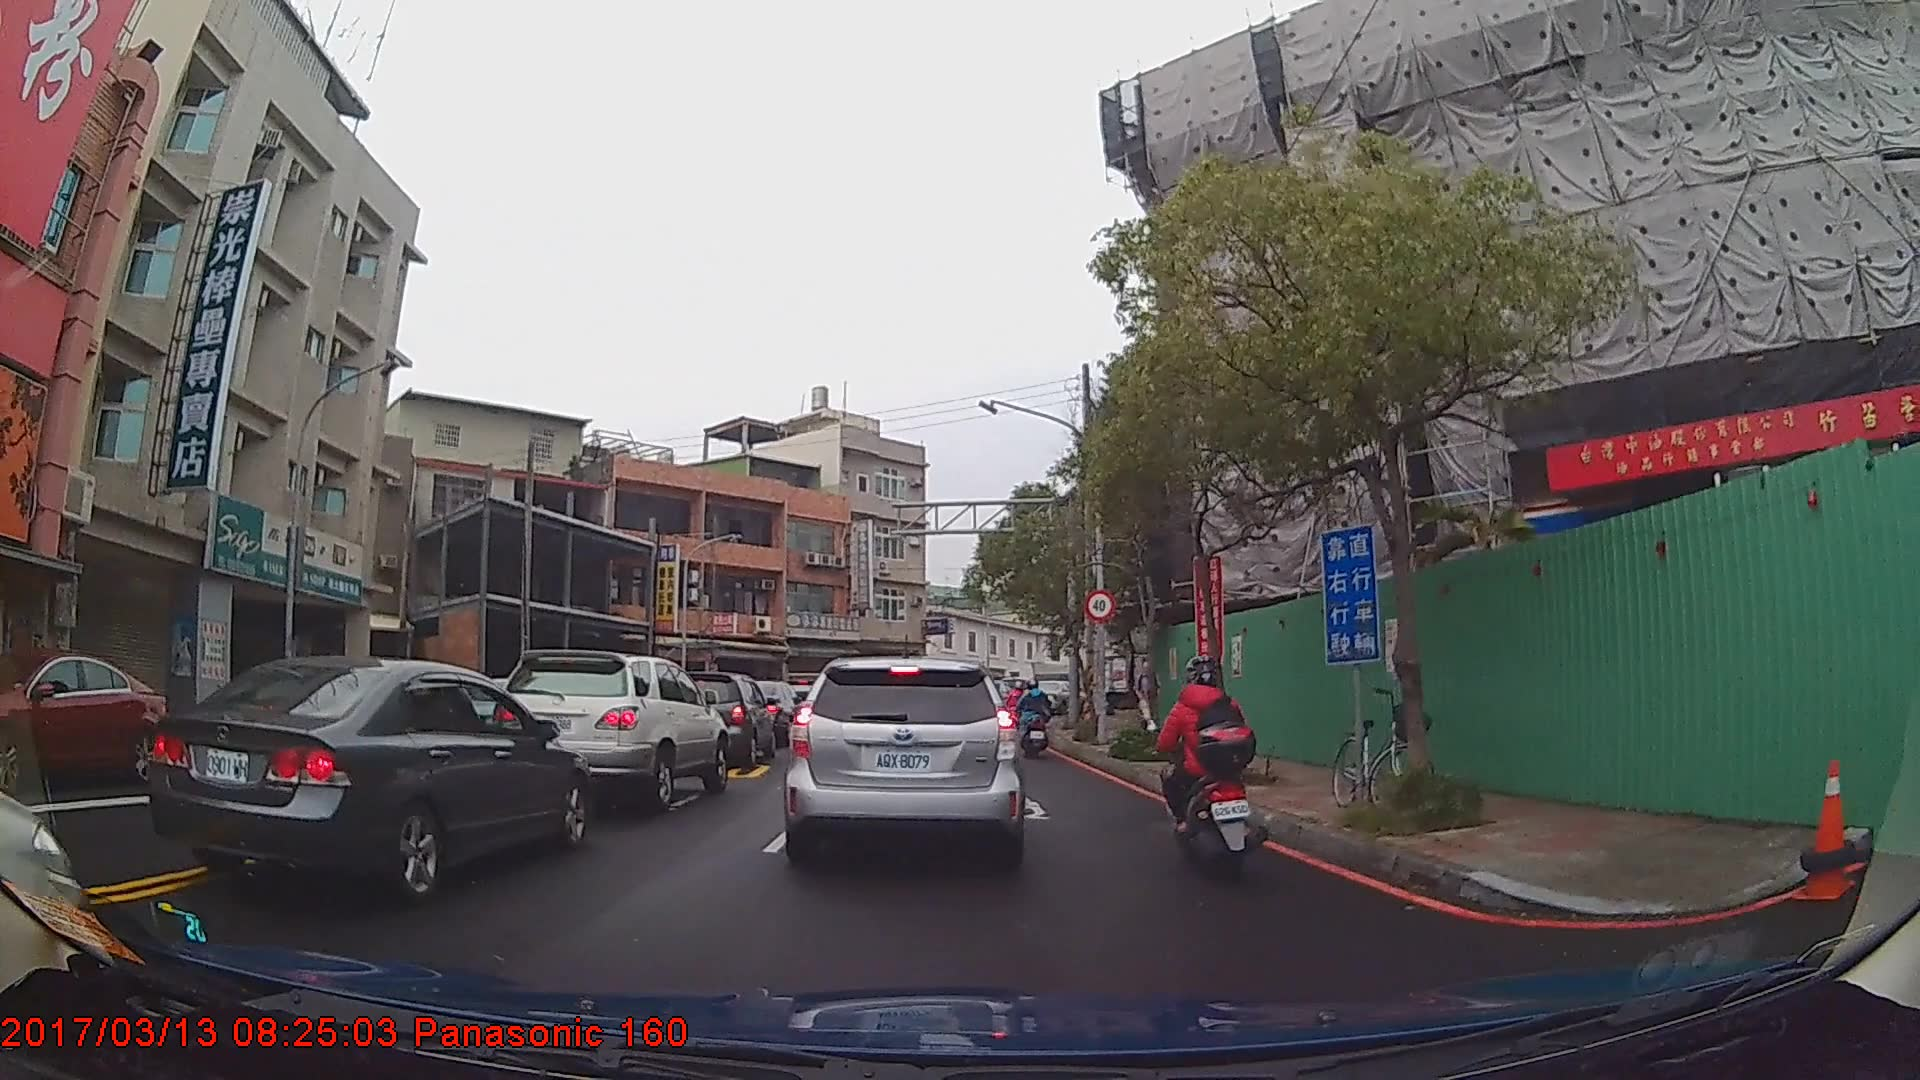pedestrian: (1130, 659, 1160, 740)
rider: (1160, 651, 1268, 875), (1018, 682, 1057, 766), (1004, 678, 1029, 739)
vehicle: (142, 653, 585, 901), (779, 655, 1029, 864), (488, 646, 725, 813), (0, 646, 166, 792), (668, 670, 775, 770)
